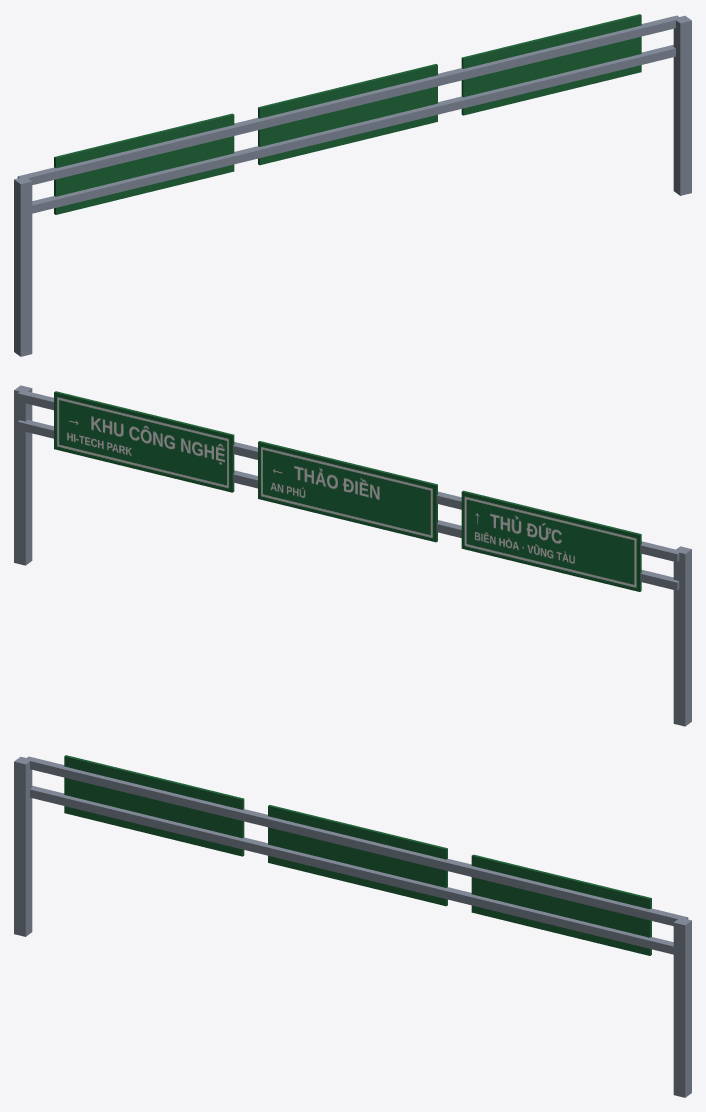
Rendered from sign_gantry_outbound.glb.
3 views of the same model, one above another, from view 1: azimuth 30°, elevation 25°; view 2: azimuth 150°, elevation 25°; view 3: azimuth 330°, elevation 25° (orthographic).
Visible parts, largest first — view 1: gantry; view 2: gantry; view 3: gantry.
Boxes of the visible parts, <box> form: gantry: <box>14,14,691,356</box>; gantry: <box>14,385,691,726</box>; gantry: <box>14,755,691,1097</box>.
Bounding box in the file's own units: 34.6 × 9 × 0.85.
Materials: 5 (1 with a texture image).
